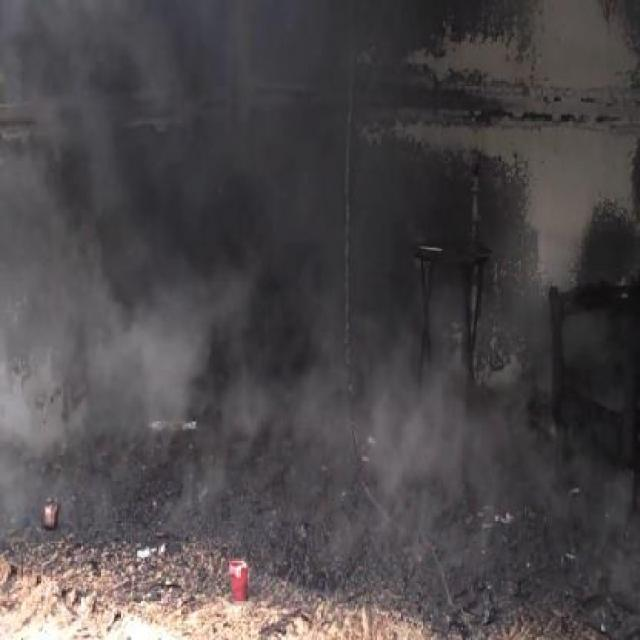smoke: (20, 120, 582, 562)
